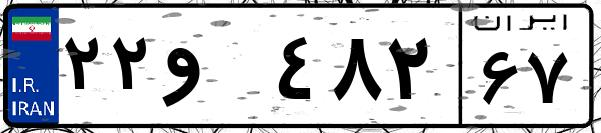2: (385, 28, 445, 110), (57, 26, 110, 100), (110, 28, 158, 98)
4: (270, 28, 330, 110)
6: (475, 38, 525, 113)
7: (525, 38, 570, 115)
8: (330, 28, 385, 110)
و: (158, 20, 270, 120)
